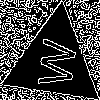W: (29, 36, 77, 89)
